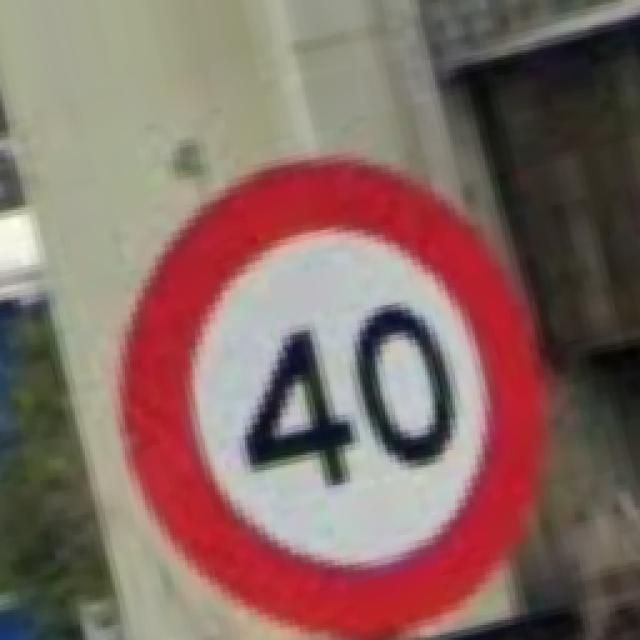Speed Limit -40-: (118, 158, 540, 632)
